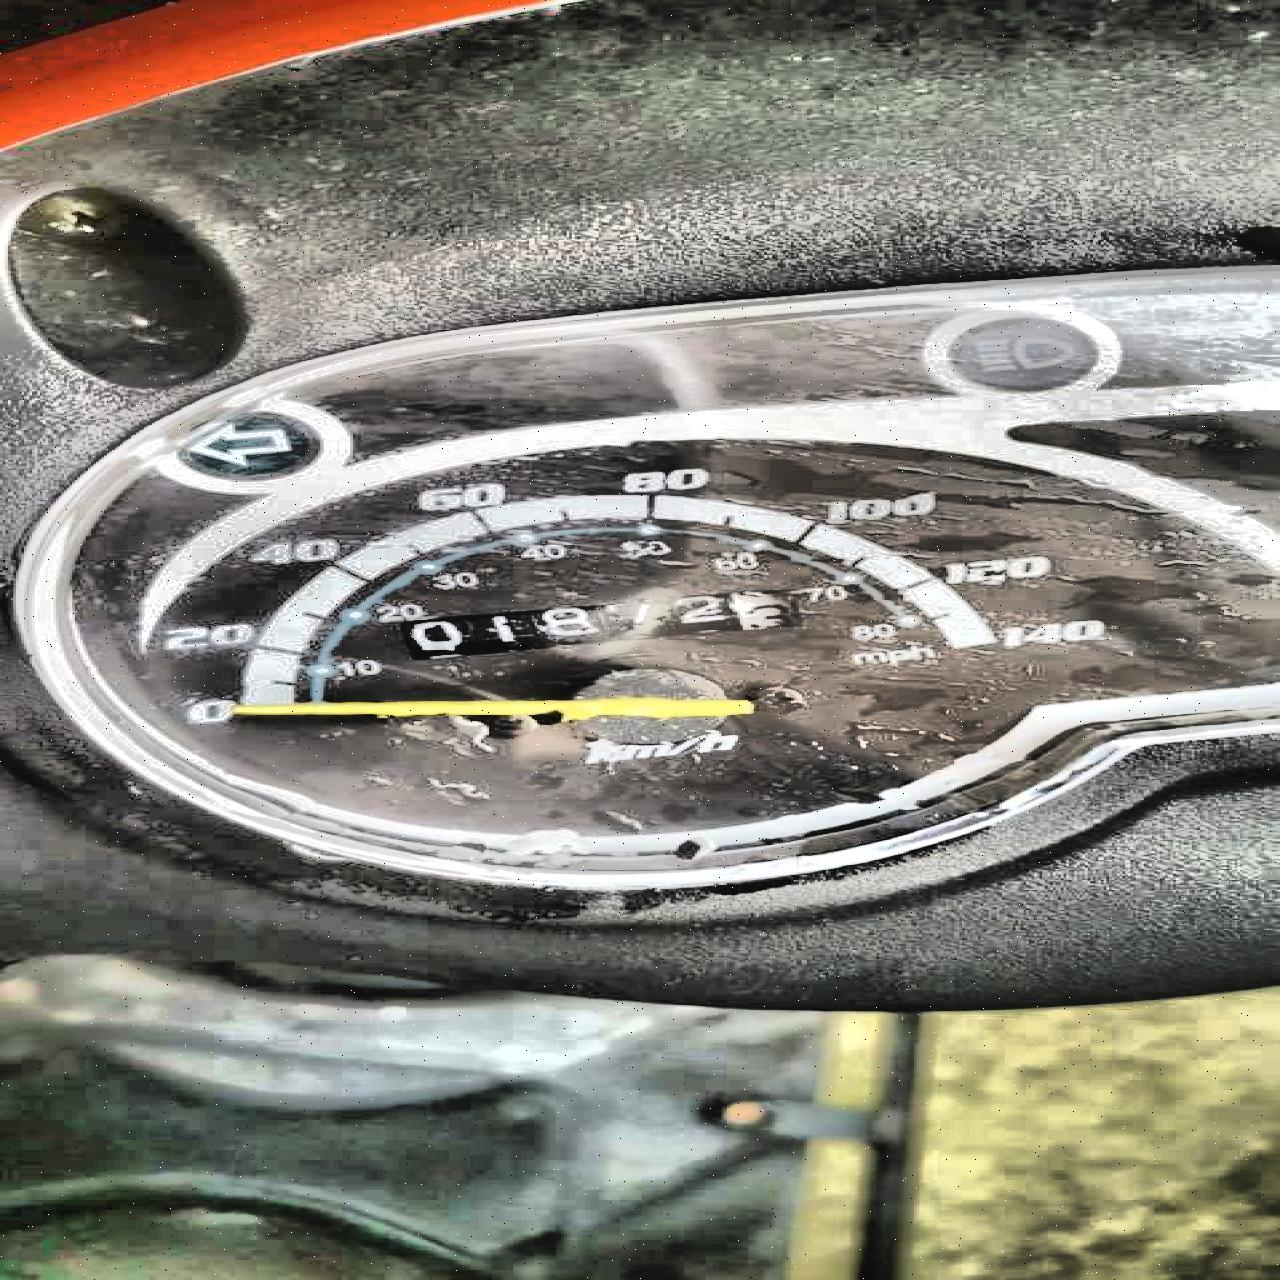0: (409, 620, 459, 649), (396, 602, 422, 618)
1: (489, 615, 513, 642)
2: (670, 593, 724, 622)
3: (743, 602, 791, 629)
7: (601, 600, 649, 626)
8: (539, 606, 591, 635)
odometer: (393, 587, 802, 662)
